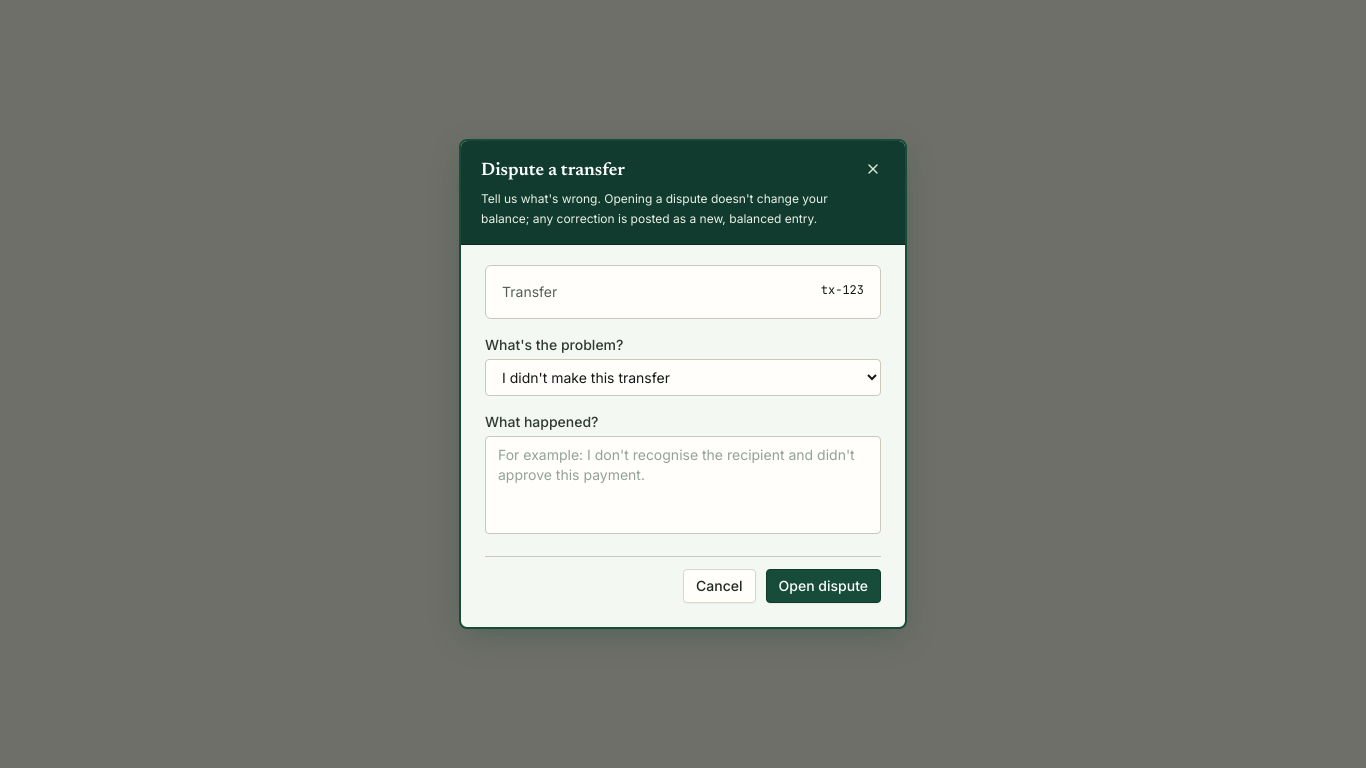
Test case: Innovation UI Components › renders DisputeModal and submits dispute inquiry
Expected: the heading "Dispute a transfer" is shown, top-left (481, 162), bottom-right (625, 180)
Expected: the text "tx-123" is shown, top-left (821, 282), bottom-right (864, 302)
Replace the text in the text box labelled "What happened?" with "too short" at (683, 485), box top-left (485, 436), bottom-right (881, 534)
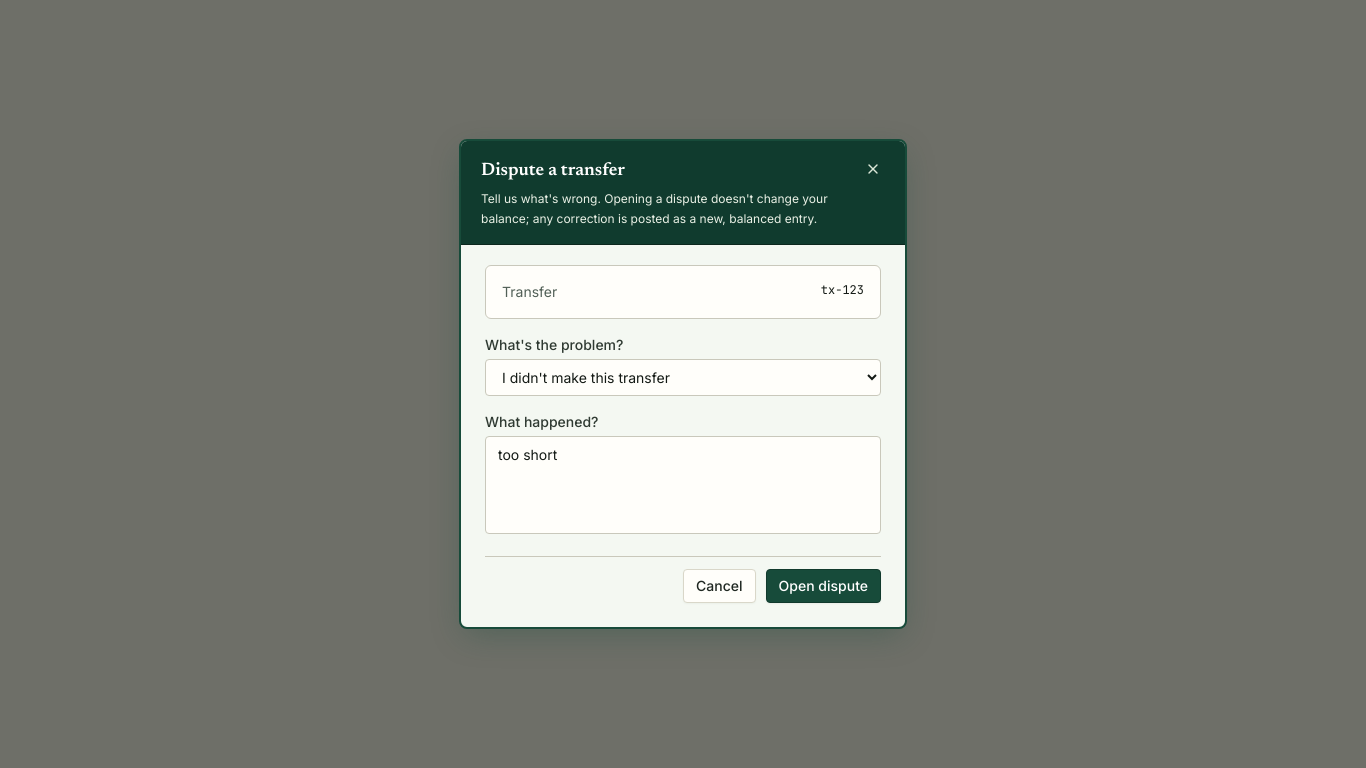
Click the button "Open dispute" at (823, 586), box top-left (766, 569), bottom-right (881, 603)
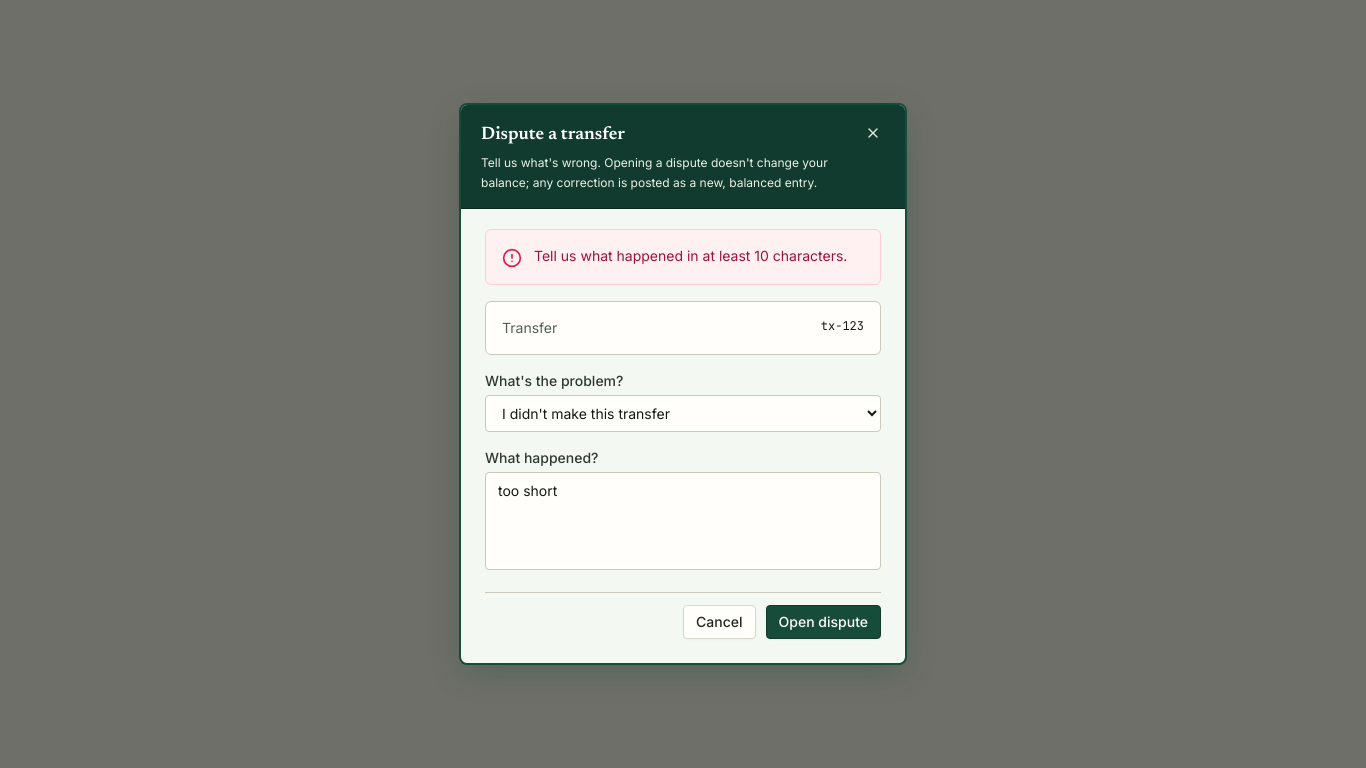
Now the text "Tell us what happened in at least 10 characters." is shown, box top-left (534, 246), bottom-right (847, 266)
Select "I think I was tricked or scammed" in the dropdown labelled "What's the problem?" at (683, 414), box top-left (485, 395), bottom-right (881, 432)
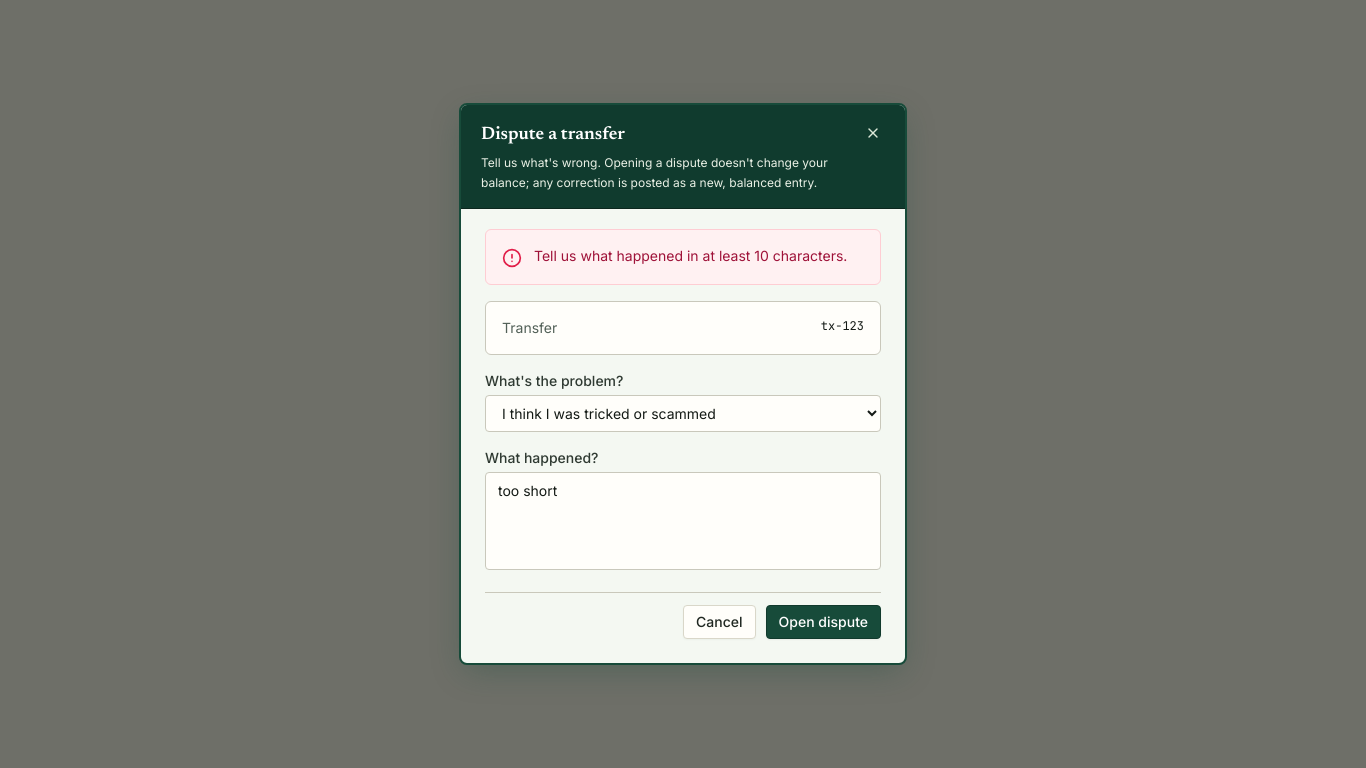
Replace the text in the text box labelled "What happened?" with "Unauthorized fund transfer from unrecognized device." at (683, 521), box top-left (485, 472), bottom-right (881, 570)
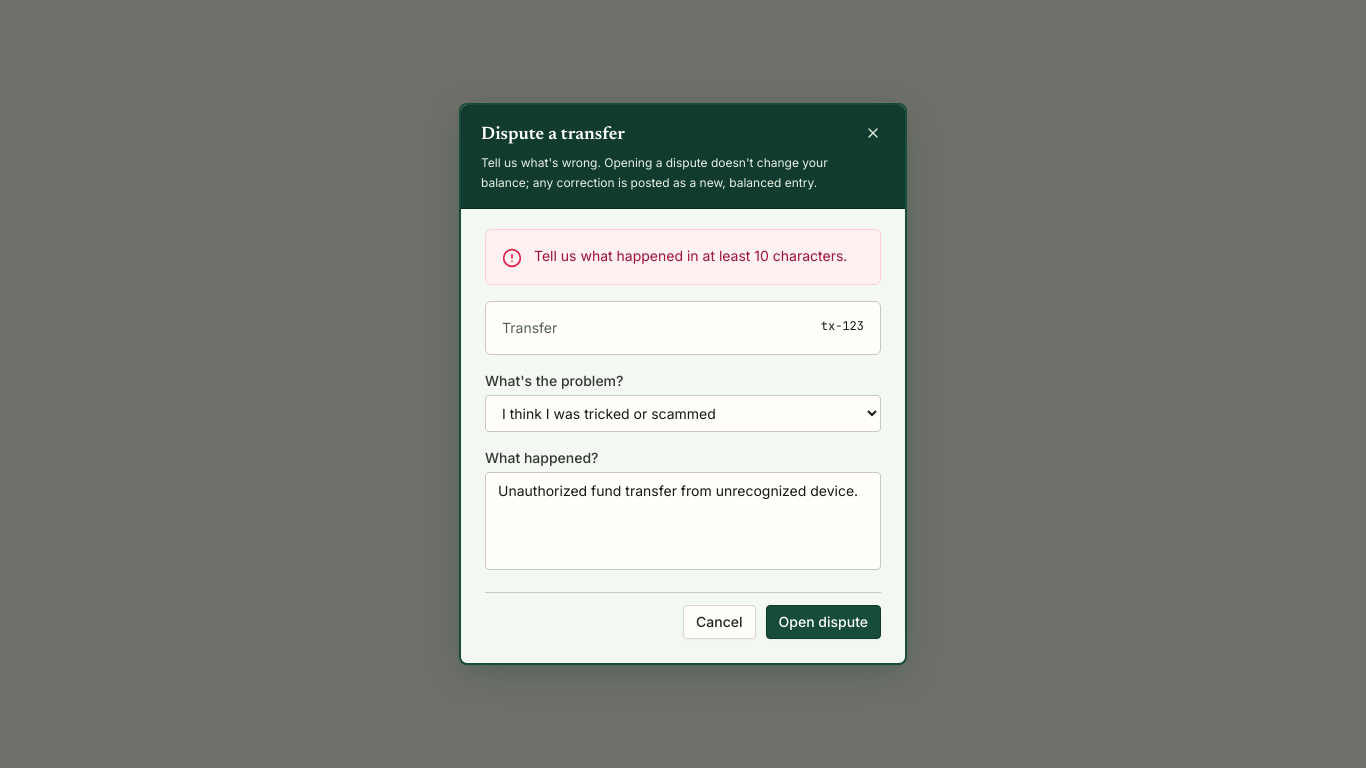
Click the button "Open dispute" at (823, 622), box top-left (766, 605), bottom-right (881, 639)
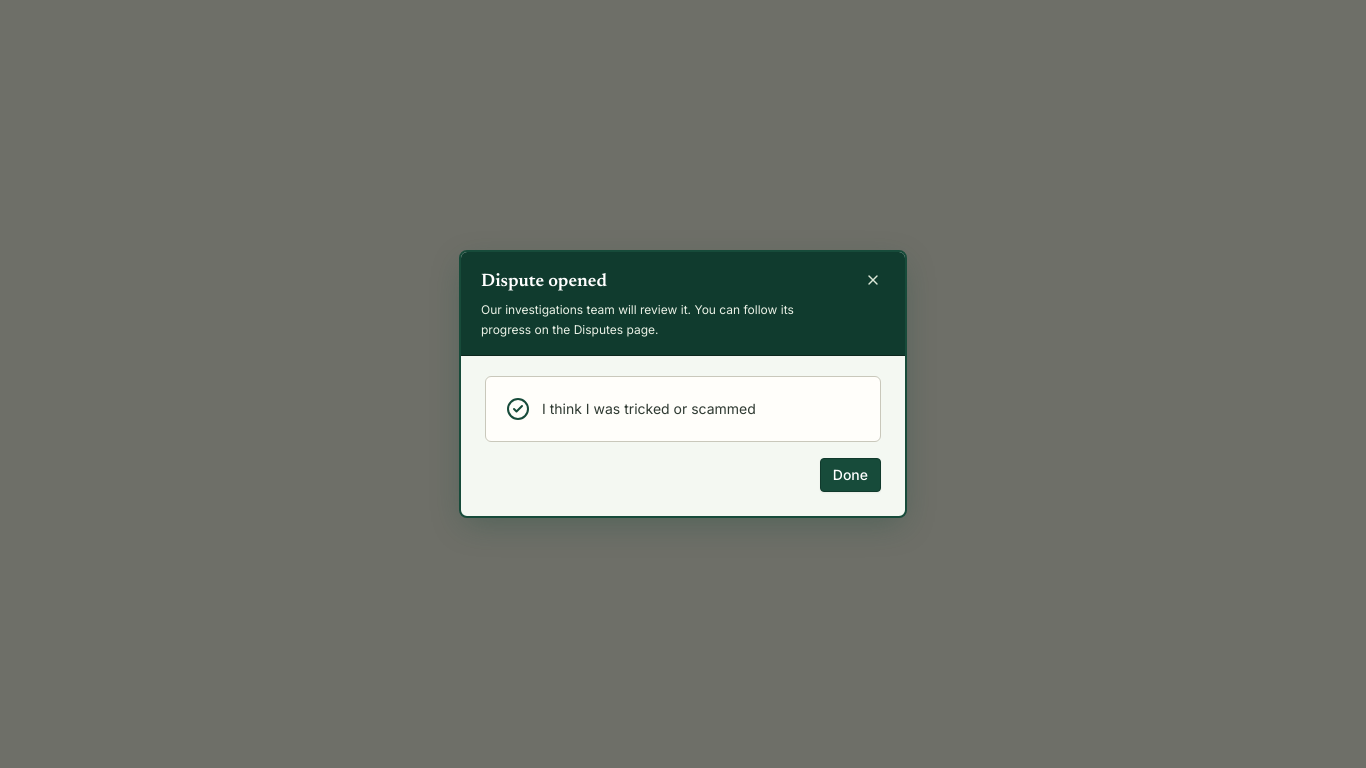
Now the heading "Dispute opened" is shown, box top-left (481, 273), bottom-right (607, 291)
